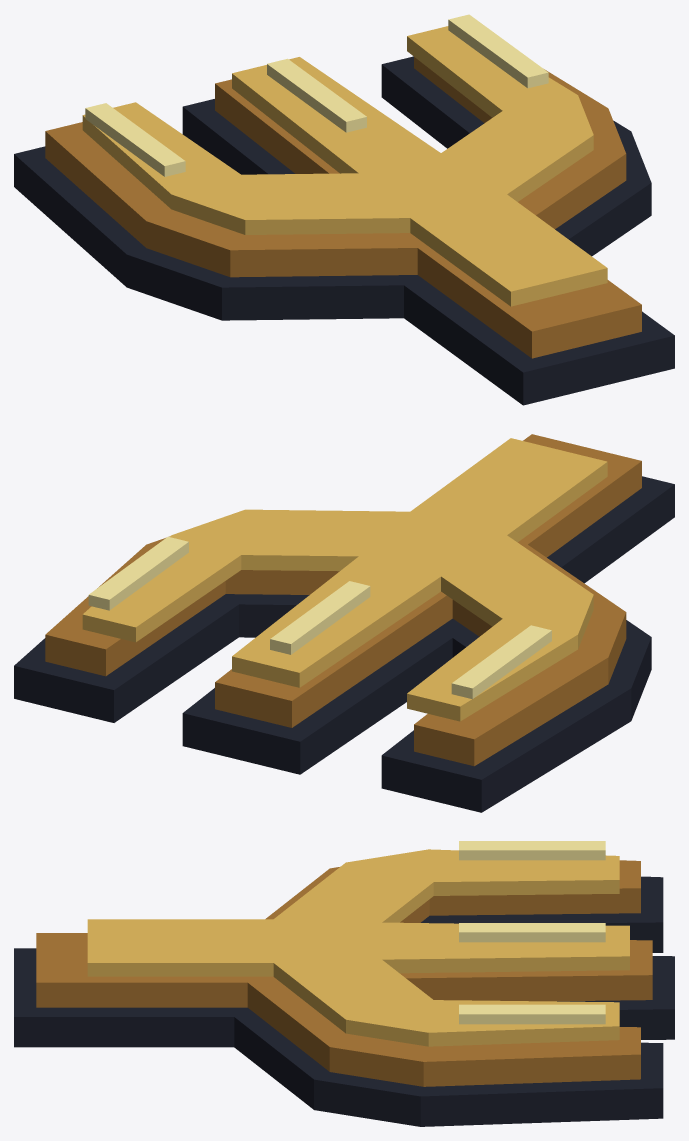
The model's file is pitchfork_part.fbx.
3 renders of one model, top to bottom at view 1: azimuth 30°, elevation 25°; view 2: azimuth 150°, elevation 25°; view 3: azimuth 270°, elevation 25°, orthographic. The views are drawn at different scales.
Parts seen in each view (by area): view 1: pitchfork_part; view 2: pitchfork_part; view 3: pitchfork_part.
Part boxes in pixels (bbox=[...]): pitchfork_part: bbox=[14, 14, 674, 405]; pitchfork_part: bbox=[14, 434, 674, 812]; pitchfork_part: bbox=[14, 841, 674, 1126].
Bounding box in the file's own units: 0.8797 × 0.153 × 1.08.
Materials: 1 (1 with a texture image).
